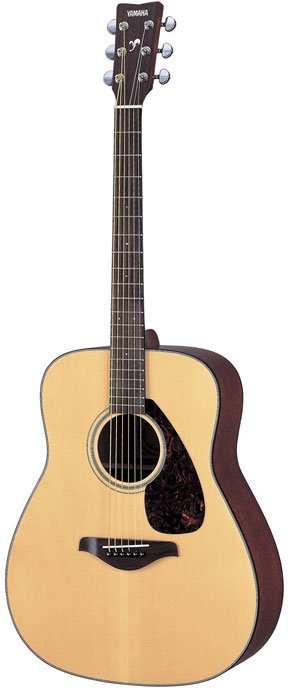guitar: (5, 1, 284, 686)
